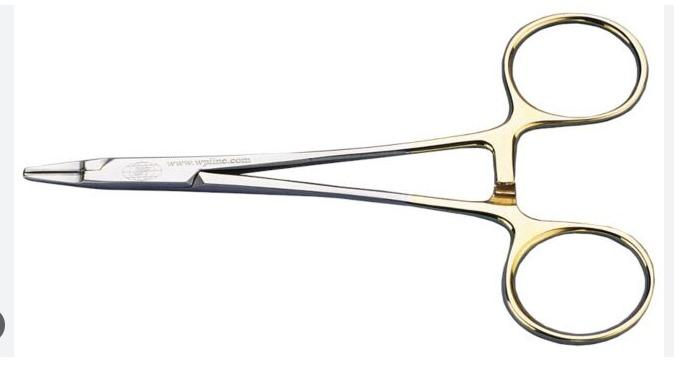Needle Holder: (17, 11, 657, 347)
